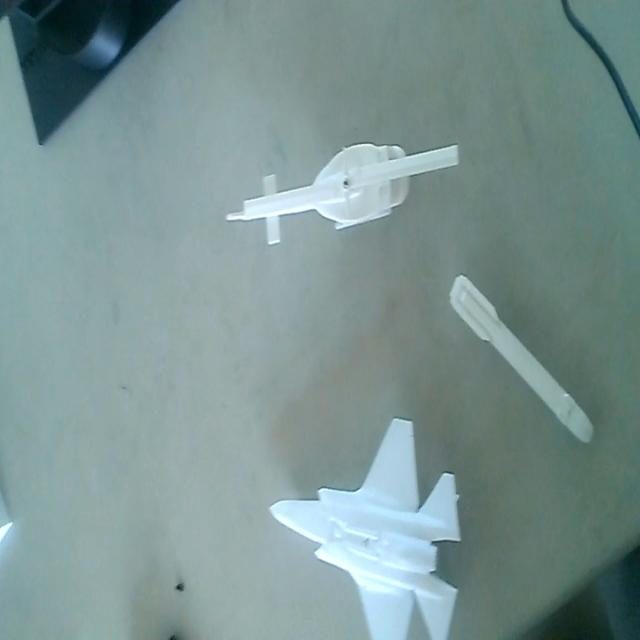Helicopter: (228, 136, 458, 247)
Jet: (268, 413, 464, 640)
Rocket: (448, 270, 597, 448)
